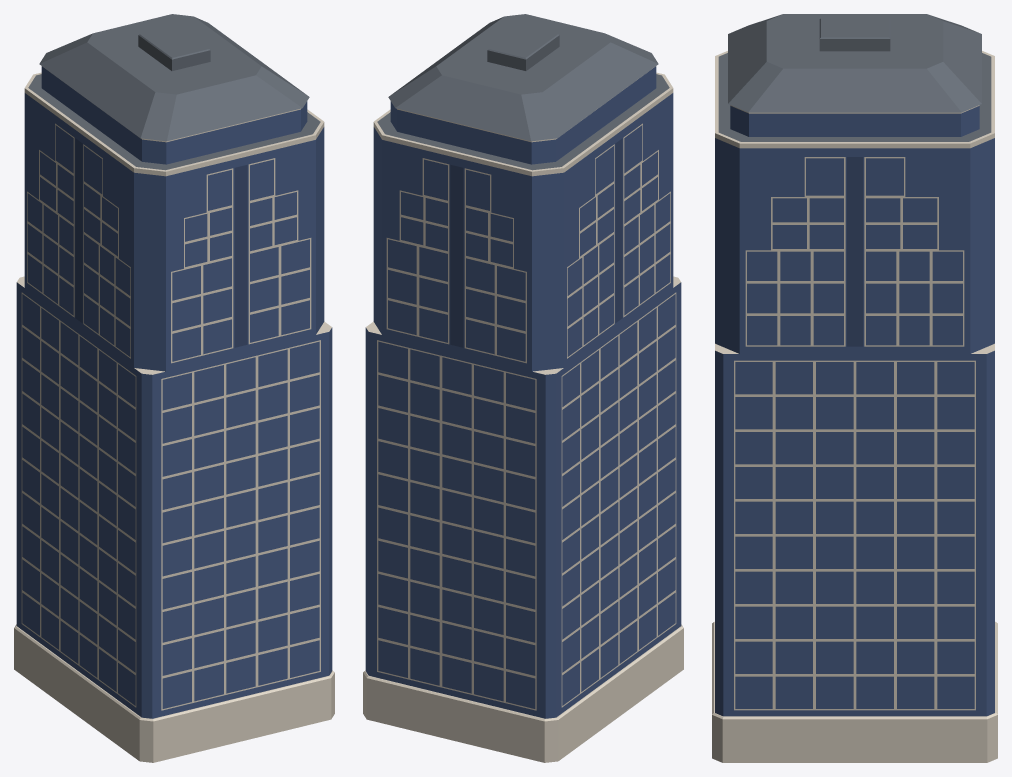
Rendered from kc-1201-walnut.glb.
3 views of the same model, side by side, from view 1: azimuth 30°, elevation 25°; view 2: azimuth 150°, elevation 25°; view 3: azimuth 270°, elevation 25° (orthographic). The views are drawn at different scales.
Visible parts, largest first — view 1: 1201 Walnut; view 2: 1201 Walnut; view 3: 1201 Walnut.
Boxes of the visible parts, x1,y1,x2,y2 form: 1201 Walnut: [14, 14, 334, 762]; 1201 Walnut: [363, 14, 683, 762]; 1201 Walnut: [712, 14, 997, 762].
Size of the model in its own units: 40.4 by 128 by 48.6.
